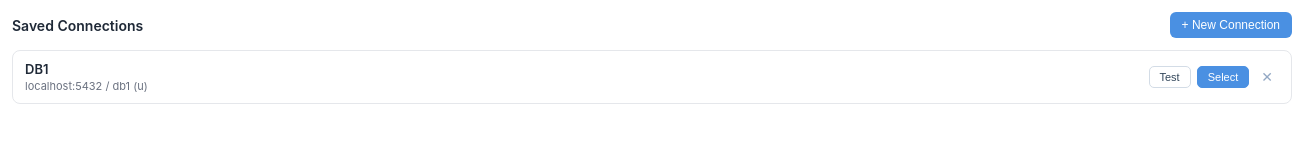
Test: AddPostgisLayerForm › returns to the connection manager when the ⚙ button is clicked
Check: the text "DB1" is shown, box top-left (25, 61), bottom-right (48, 77)
Click the button titled "Use this connection" at (1223, 77), box top-left (1197, 66), bottom-right (1249, 88)
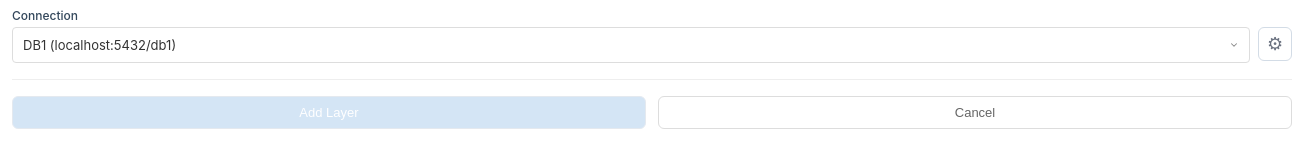
Check: the button titled "Manage connections" is shown
Click the button titled "Manage connections" at (1275, 44), box top-left (1258, 27), bottom-right (1292, 61)
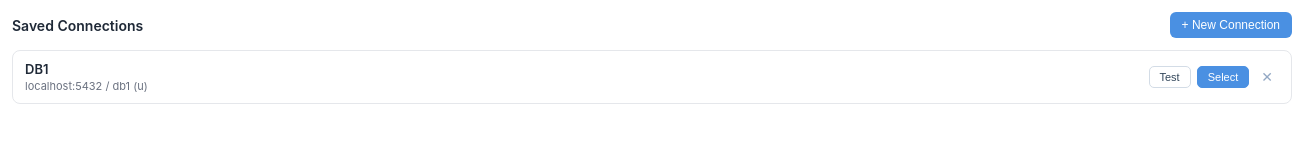
Check: the heading "Saved Connections" is shown, box top-left (12, 16), bottom-right (143, 34)
